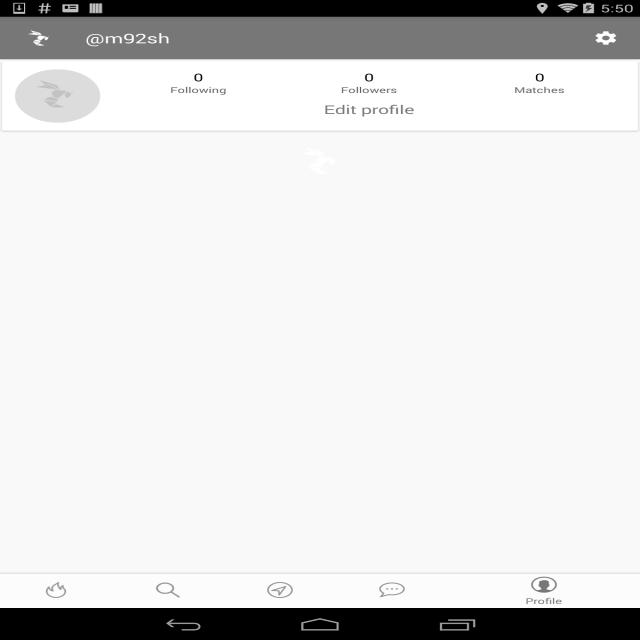Button: (113, 96, 625, 123)
ImageButton: (9, 17, 68, 59)
ImageView: (15, 69, 100, 123), (293, 144, 346, 178), (43, 582, 69, 598), (155, 582, 181, 598), (267, 582, 293, 598), (379, 582, 405, 598), (531, 576, 557, 592)
TextView: (580, 22, 632, 54), (85, 29, 170, 47), (170, 84, 227, 96), (341, 84, 397, 96), (514, 84, 565, 96), (525, 595, 562, 608), (364, 70, 374, 84), (194, 70, 203, 84), (535, 70, 544, 84)
